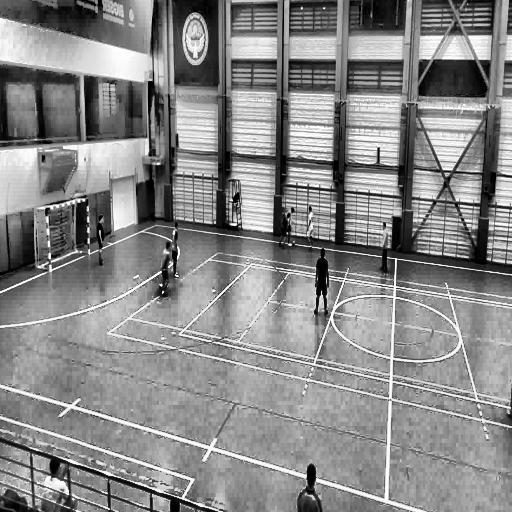ball: (290, 238, 296, 250)
player: (314, 247, 329, 316), (159, 240, 172, 297), (506, 334, 512, 427), (283, 206, 296, 247), (171, 222, 179, 278), (380, 220, 388, 271), (97, 216, 105, 266), (306, 207, 314, 253)
